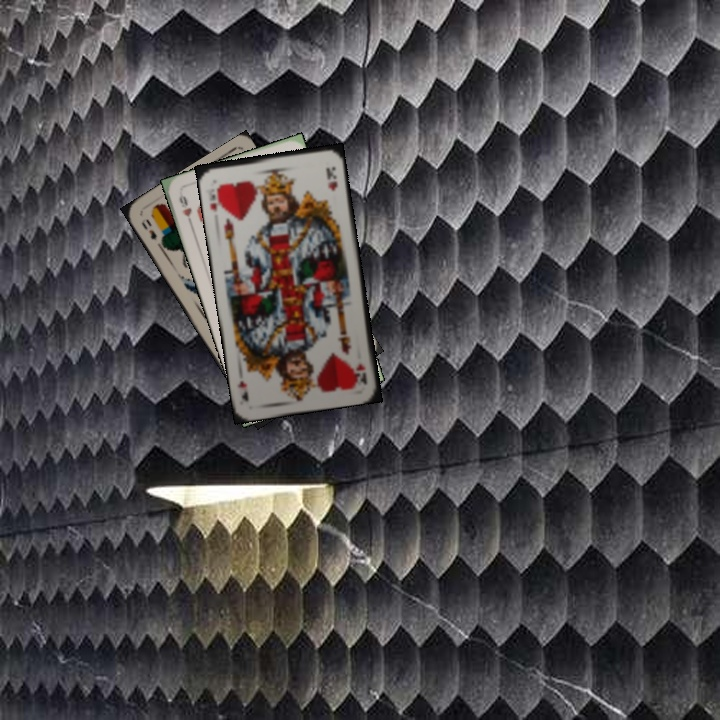EO: (137, 215, 165, 249)
H9: (175, 189, 196, 229)
HK: (205, 180, 225, 215), (352, 360, 370, 387)
